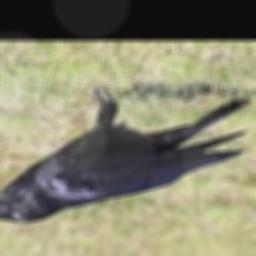Crow: (0, 85, 250, 224)
